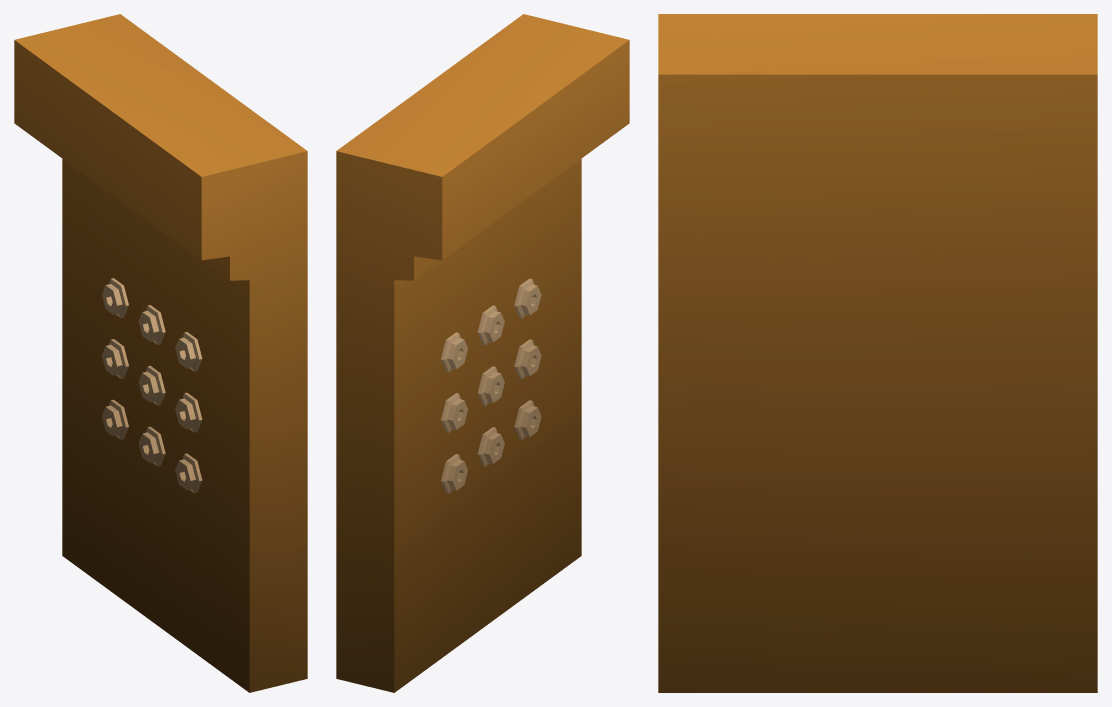
Rendered from ArrowTrap.fbx.
3 renders of one model, left to right at view 1: azimuth 30°, elevation 25°; view 2: azimuth 150°, elevation 25°; view 3: azimuth 270°, elevation 25°, orthographic. The views are drawn at different scales.
Visible parts, largest first — view 1: Cube, Cylinder; view 2: Cube, Cylinder; view 3: Cube.
Part boxes in pixels (x1=…): Cube: x1=14, y1=14, x2=307, y2=692; Cylinder: x1=101, y1=278, x2=202, y2=493; Cube: x1=336, y1=14, x2=629, y2=692; Cylinder: x1=441, y1=278, x2=541, y2=493; Cube: x1=658, y1=14, x2=1097, y2=692.
Bounding box in the file's own units: 256 × 1216 × 783.
